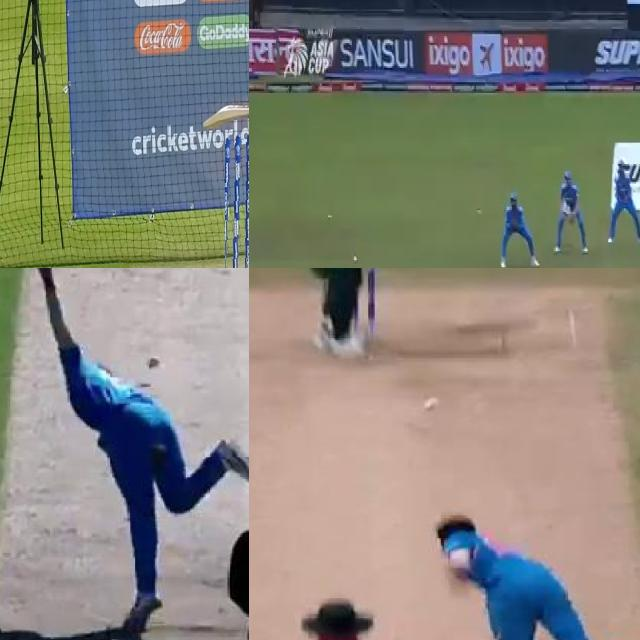Cricket ball: (145, 354, 162, 372), (424, 397, 440, 414), (352, 253, 359, 265)
Stumps: (225, 133, 249, 268)
